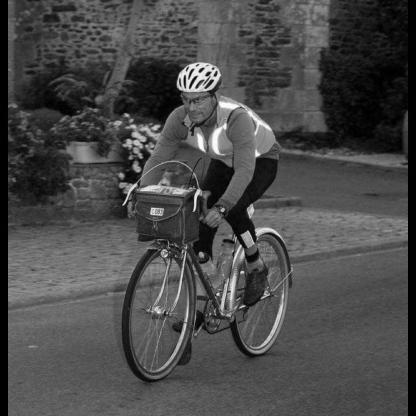Bicycle: (102, 146, 312, 390)
